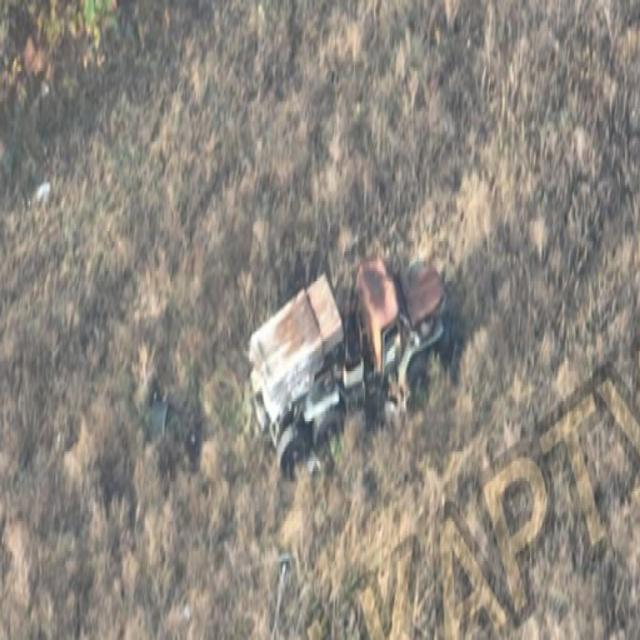MLRS: (245, 250, 450, 469)
